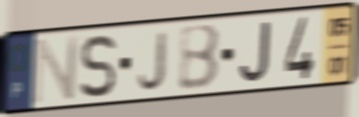4: (283, 14, 315, 82)
B: (177, 21, 222, 93)
J: (237, 19, 273, 85), (136, 28, 171, 93)
N: (31, 32, 82, 107)
S: (78, 32, 119, 101)
